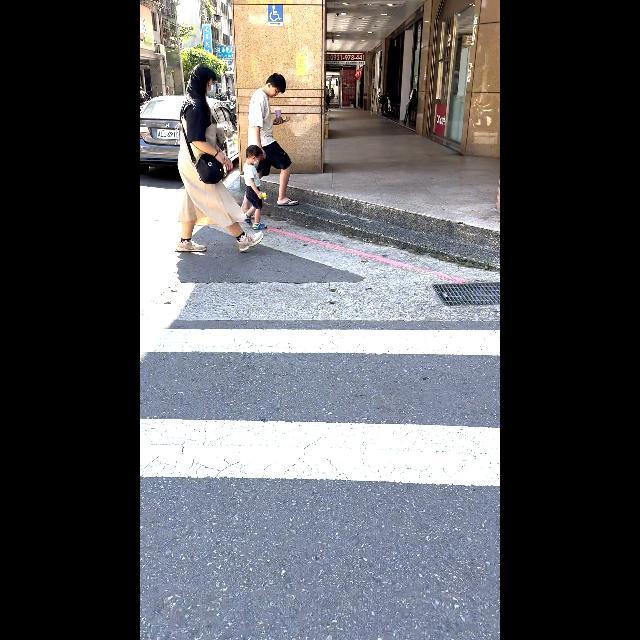sidewalk: (142, 325, 496, 489)
